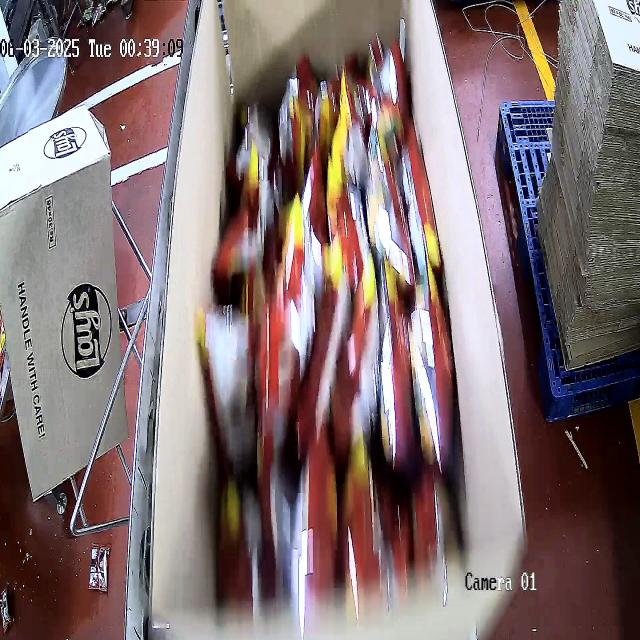MASALA: (205, 23, 462, 634)
